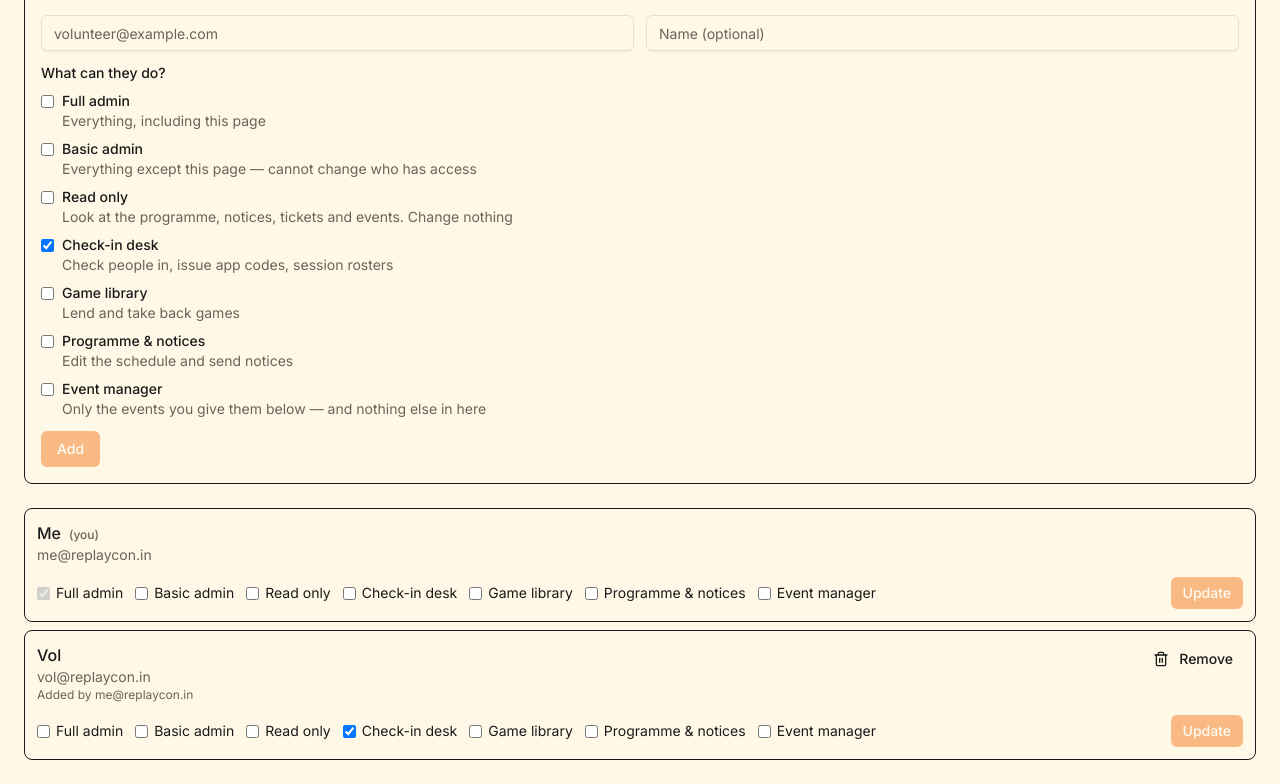
Test: the update button › enables once a box is ticked, and sends nothing before it is pressed
(page scrolled)
Check: the text "Vol" is shown, box [37,645,61,665]
What coordinates should you click on to do the following:
click the 2nd checkbox labelled "Game library"
I would click on:
 (476, 731)
Its box is [469,724,482,738].
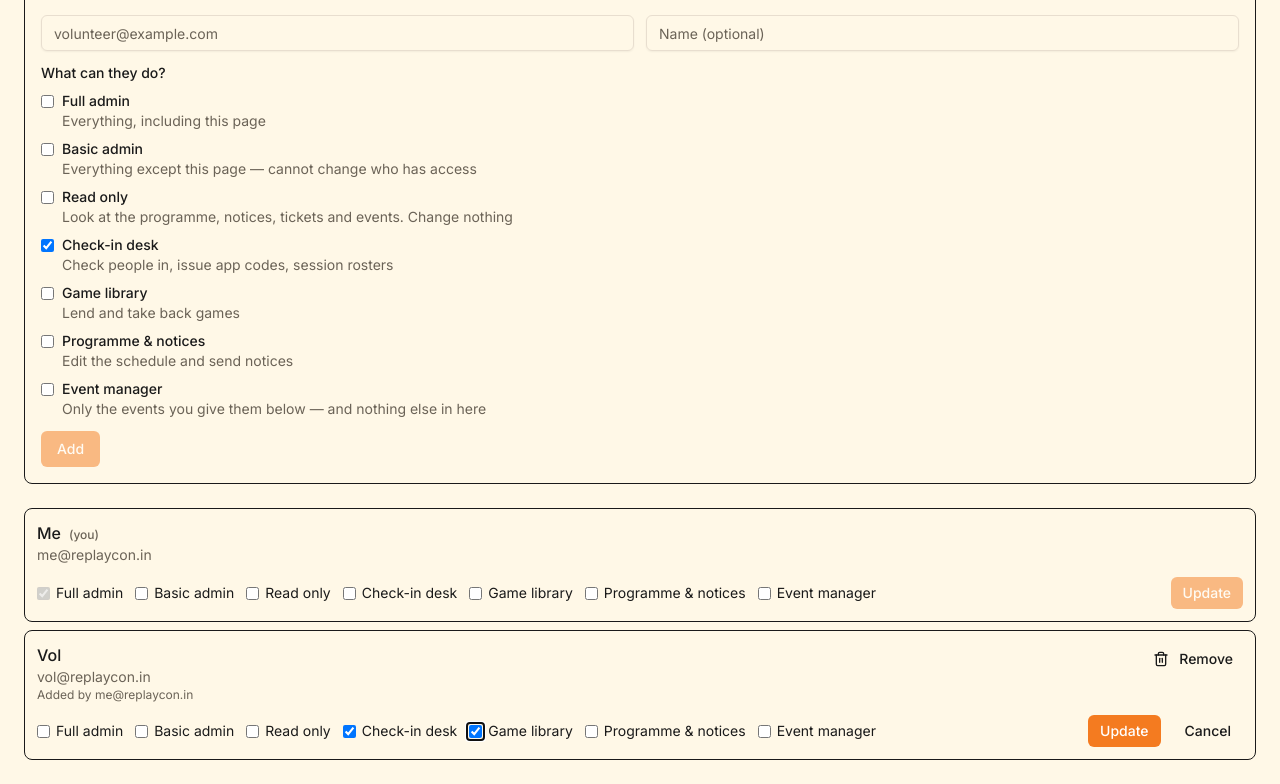
Check: the 2nd button "Update" is enabled, box [1088,715,1160,747]
